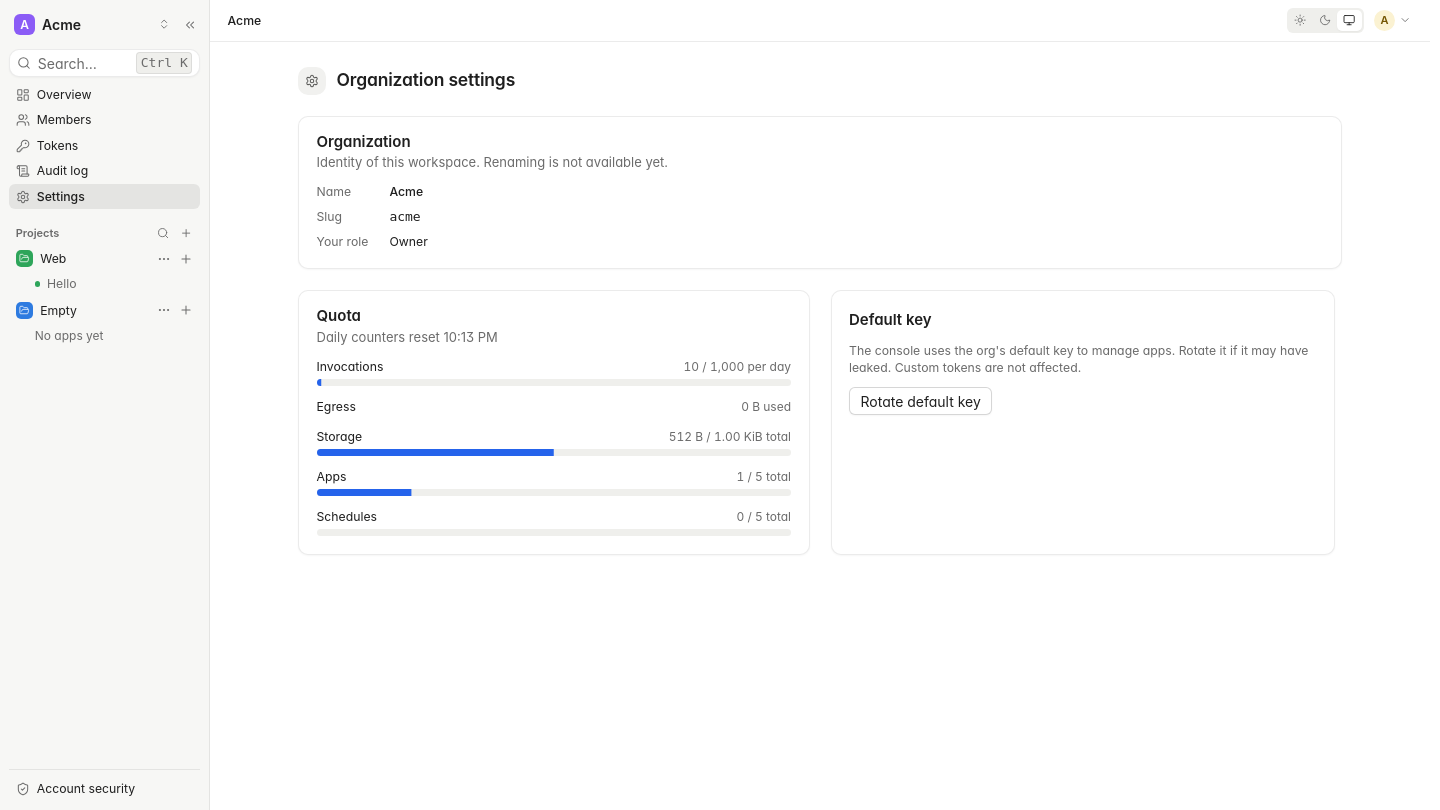
rotate default key › owner rotates after typing the org slug and sees a success toast
Click the button "Rotate default key". click: point(921, 401)
box: [849,387,992,415]
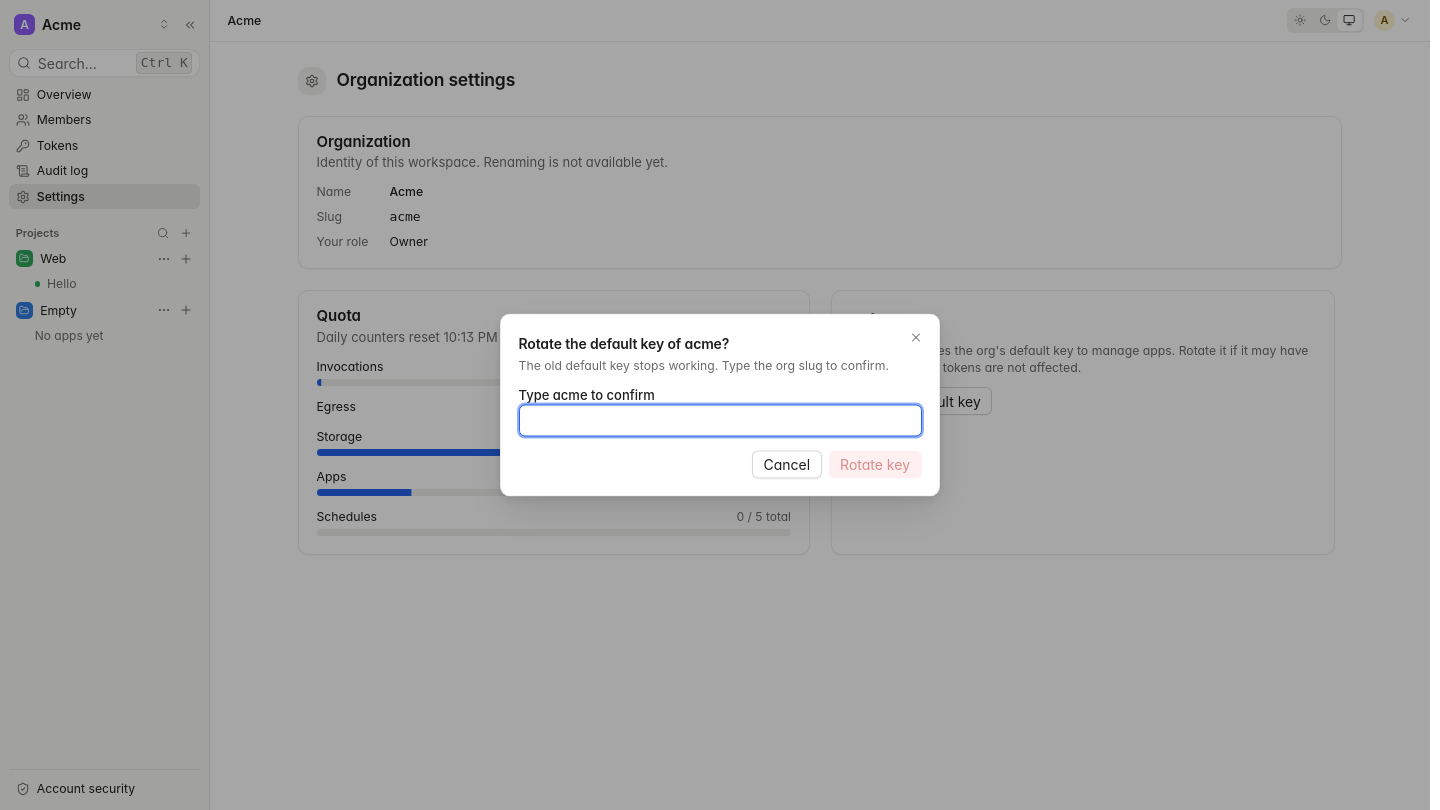
expect the button "Rotate key" is disabled: met, box [829,450,922,478]
Type "acme" into the field labelled "Type acme to confirm". click: point(720, 420)
box: [518,404,922,436]
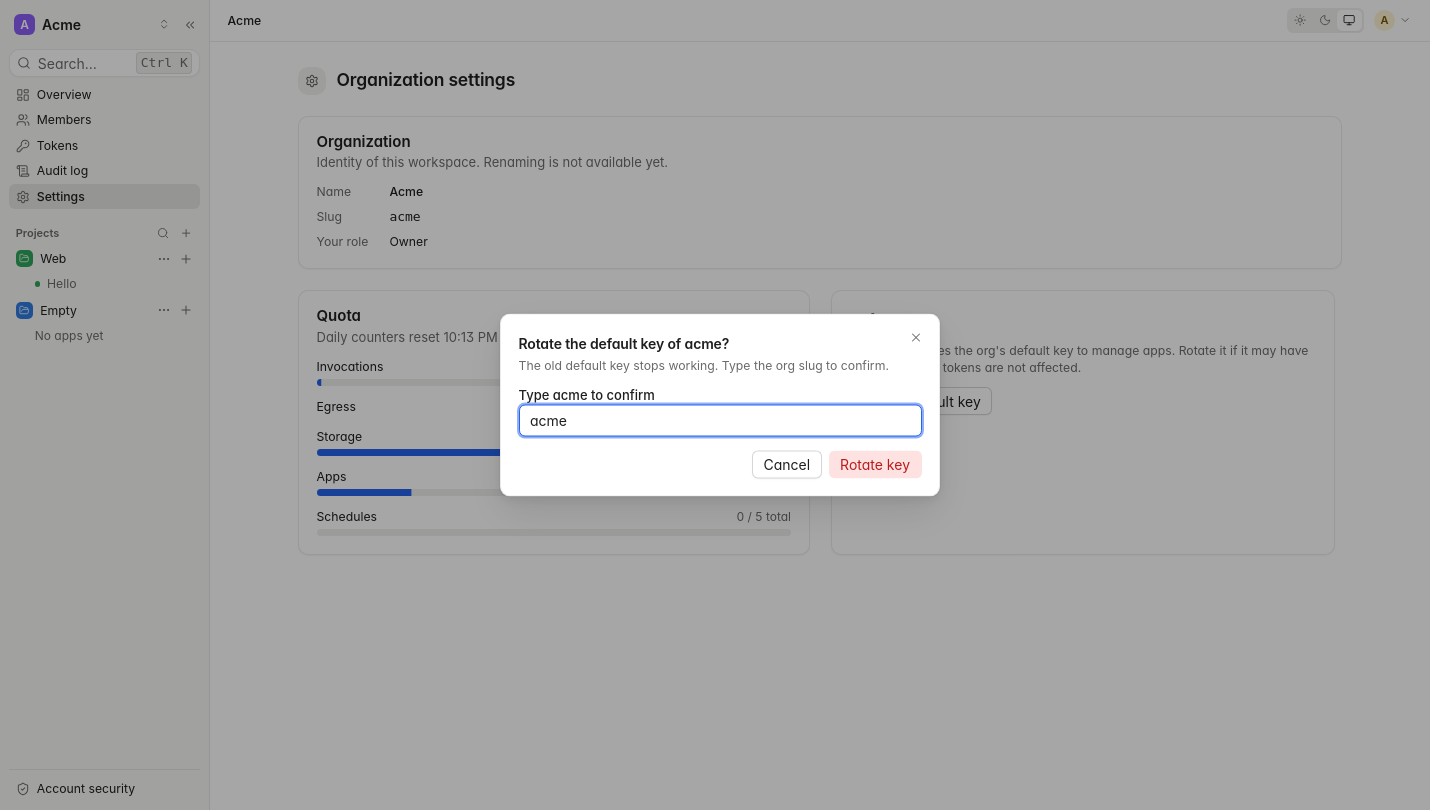
Click the button "Rotate key". click: point(875, 464)
box: [829,450,922,478]
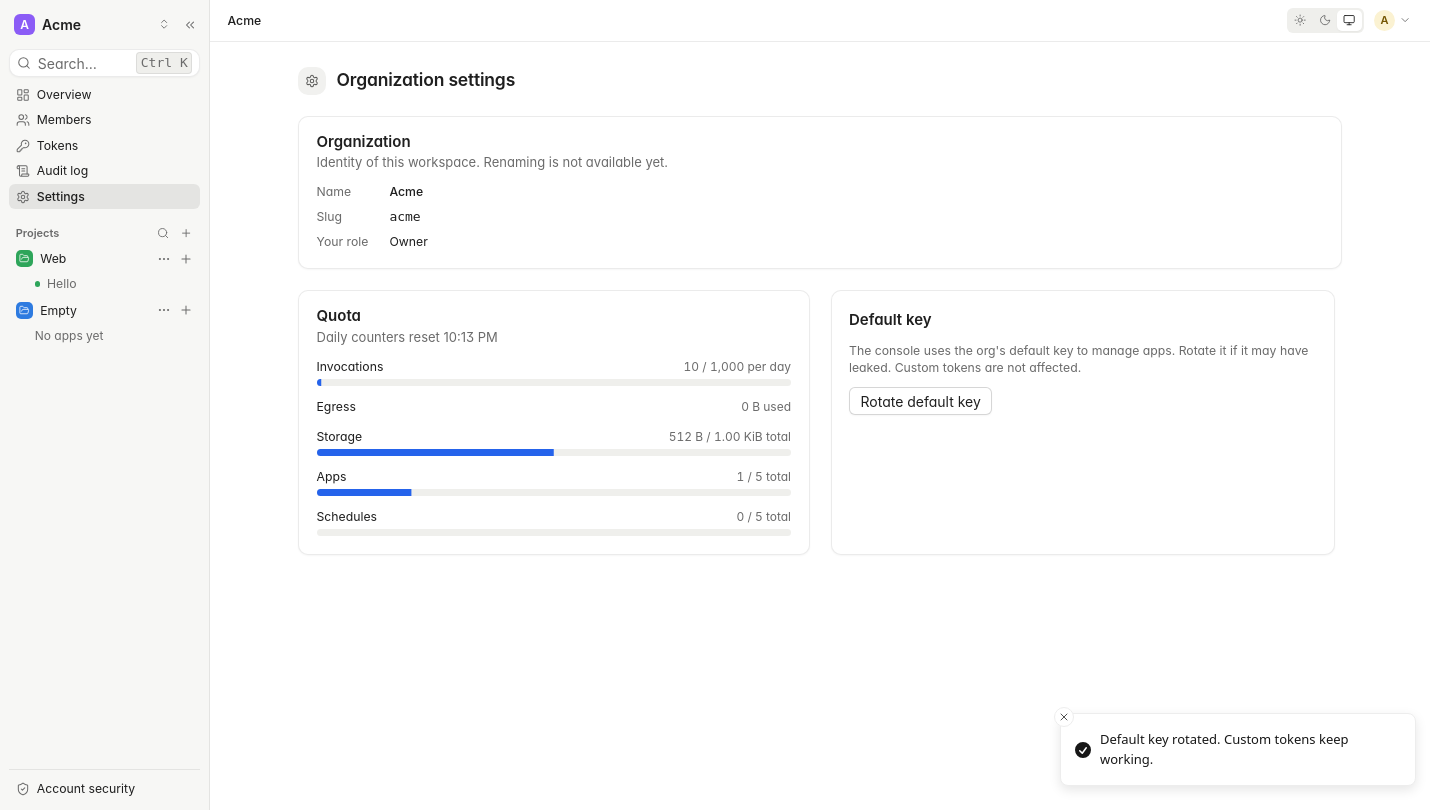
expect the text "Default key rotated. Custom tokens keep working." is shown: met, box [1100,730,1349,768]
